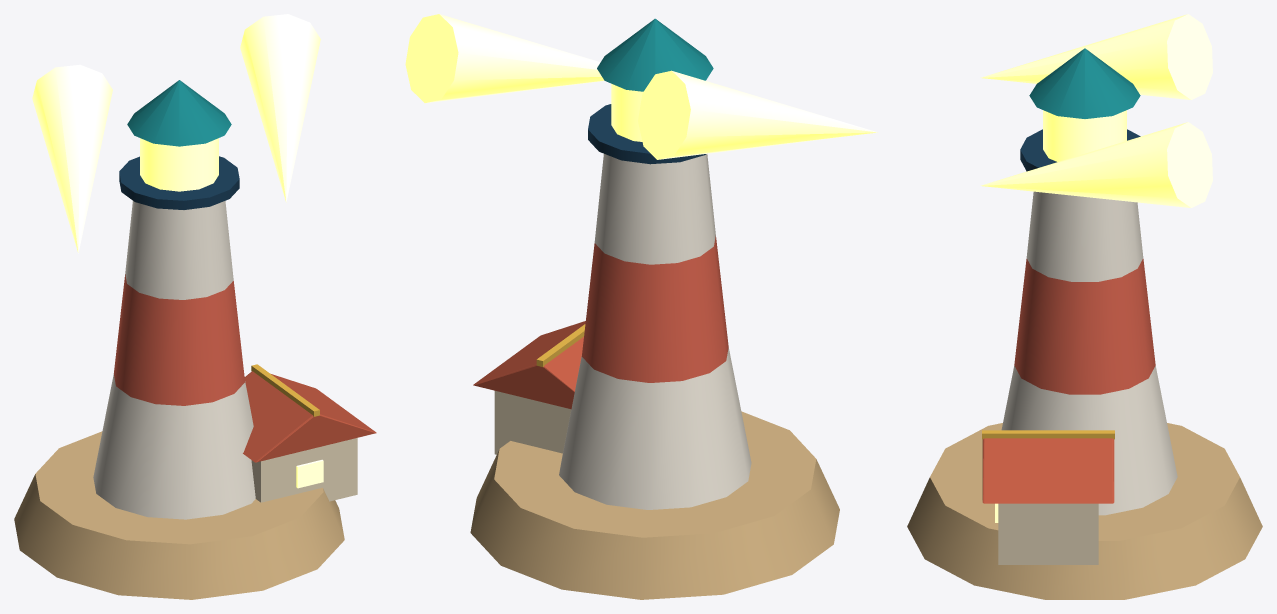
Rendered from horizon-lighthouse.glb.
3 views of the same model, side by side, from view 1: azimuth 30°, elevation 25°; view 2: azimuth 150°, elevation 25°; view 3: azimuth 270°, elevation 25° (orthographic). The views are drawn at different scales.
Visible parts, largest first — view 1: Mesh_sandStone, Mesh_warmWhite, Mesh_glowWarm (×2), Mesh_coral, Mesh_terracotta, Mesh_teal, Mesh_cream, Mesh_navy, Mesh_gold; view 2: Mesh_sandStone, Mesh_warmWhite, Mesh_glowWarm (×2), Mesh_coral, Mesh_terracotta, Mesh_teal, Mesh_cream, Mesh_navy; view 3: Mesh_sandStone, Mesh_glowWarm (×2), Mesh_warmWhite, Mesh_coral, Mesh_terracotta, Mesh_cream, Mesh_teal, Mesh_gold, Mesh_navy.
Part boxes in pixels (x1,y1,x2,y2): Mesh_sandStone: (14, 431, 344, 599); Mesh_warmWhite: (93, 201, 255, 519); Mesh_glowWarm (×2): (32, 14, 323, 488); Mesh_coral: (113, 274, 244, 405); Mesh_terracotta: (243, 371, 376, 462); Mesh_teal: (127, 80, 231, 146); Mesh_cream: (251, 438, 357, 502); Mesh_navy: (119, 156, 239, 209); Mesh_gold: (251, 364, 319, 416); Mesh_sandStone: (470, 411, 839, 599); Mesh_warmWhite: (559, 154, 751, 509); Mesh_glowWarm (×2): (405, 14, 878, 159); Mesh_coral: (582, 236, 728, 382); Mesh_terracotta: (473, 321, 585, 409); Mesh_teal: (597, 18, 713, 91); Mesh_cream: (494, 391, 571, 454); Mesh_navy: (588, 104, 705, 164); Mesh_sandStone: (907, 423, 1262, 599); Mesh_glowWarm (×2): (980, 14, 1212, 522); Mesh_warmWhite: (1001, 191, 1177, 515); Mesh_coral: (1014, 258, 1155, 394); Mesh_terracotta: (982, 438, 1114, 503); Mesh_cream: (998, 503, 1098, 564); Mesh_teal: (1029, 48, 1140, 118); Mesh_gold: (982, 430, 1114, 439); Mesh_navy: (1020, 129, 1140, 171).
Size of the model in its own units: 8.91 by 11.57 by 7.8.
